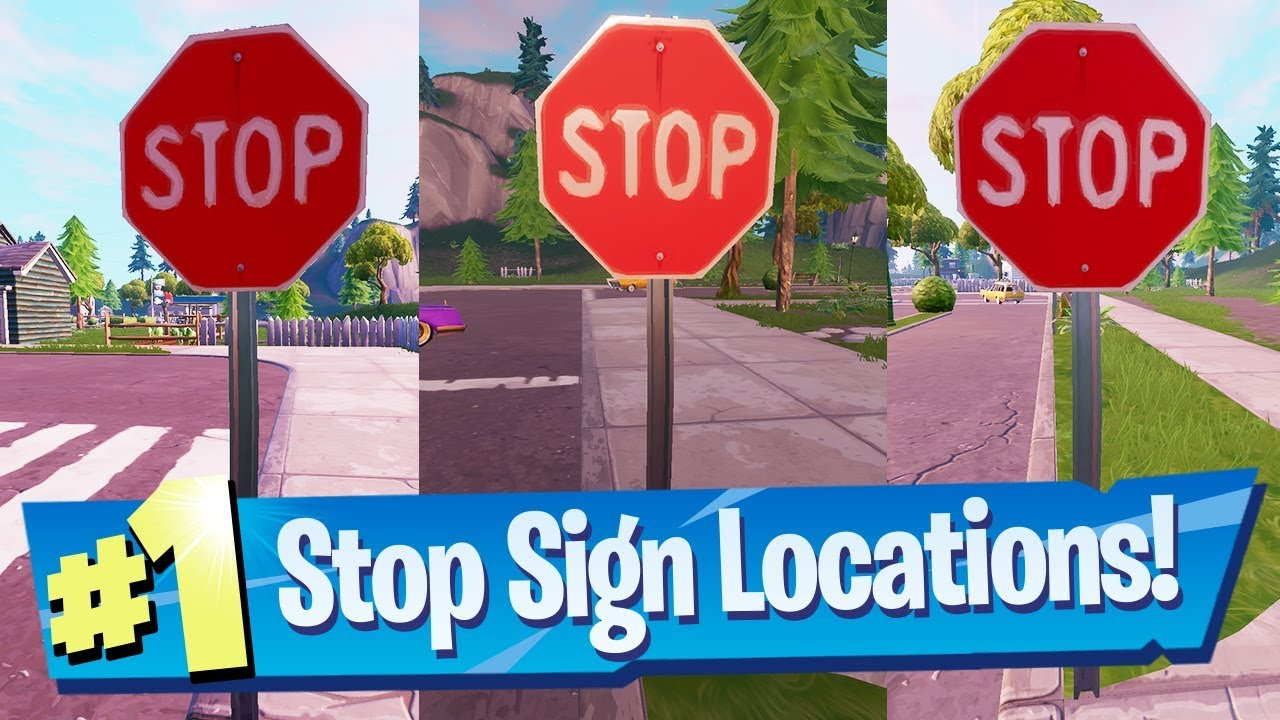stop: (950, 12, 1213, 295), (114, 21, 369, 294), (534, 15, 779, 282)
